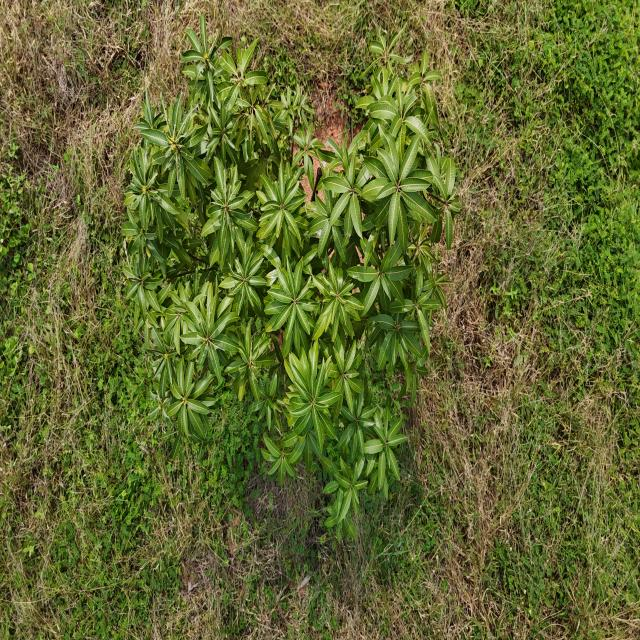mangoTree: (120, 11, 461, 548)
